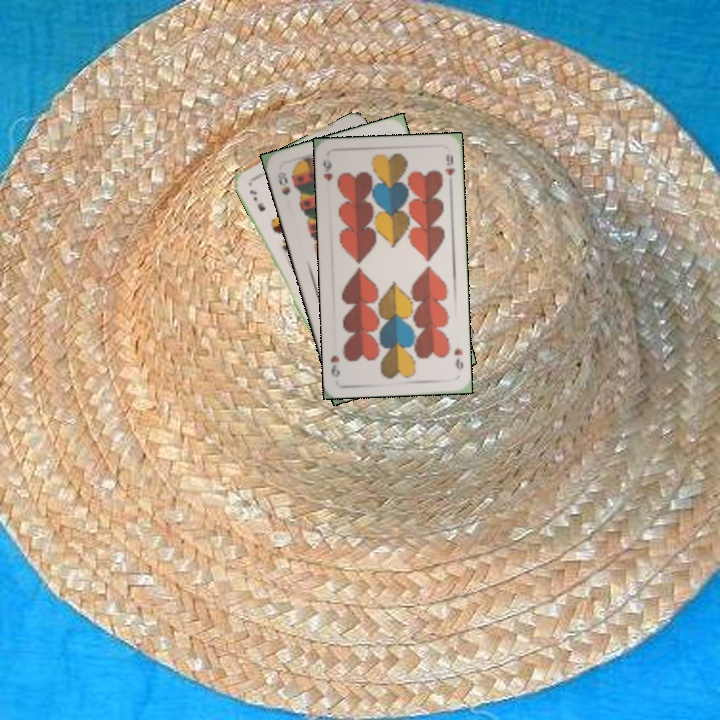E7: (245, 186, 268, 214)
H9: (319, 156, 335, 184), (450, 344, 466, 372)
S8: (273, 168, 293, 198)
